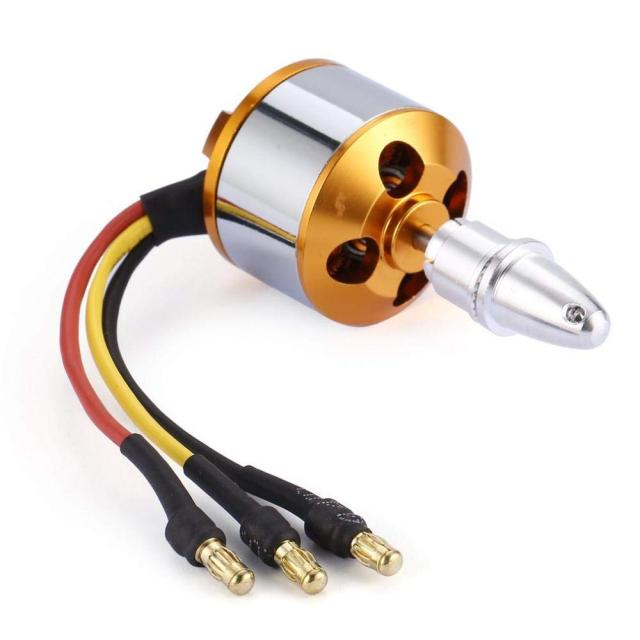motor: (178, 12, 610, 389)
